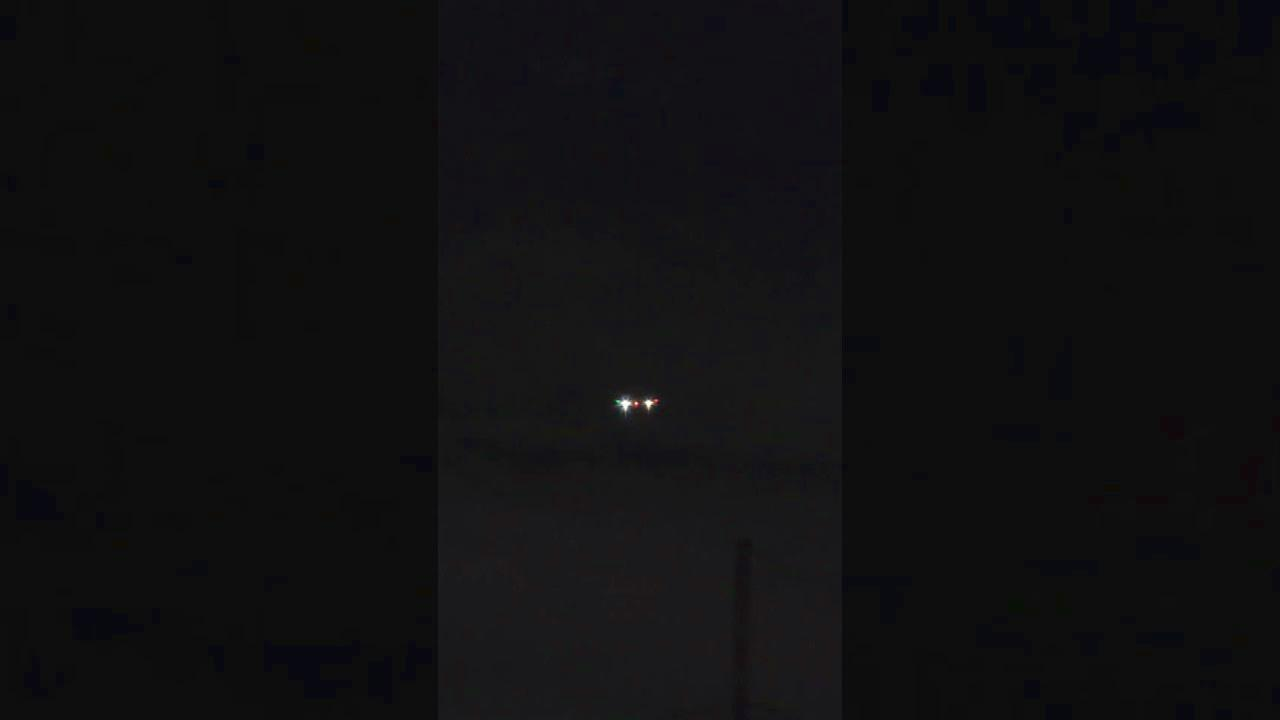Plane: (582, 377, 690, 434)
